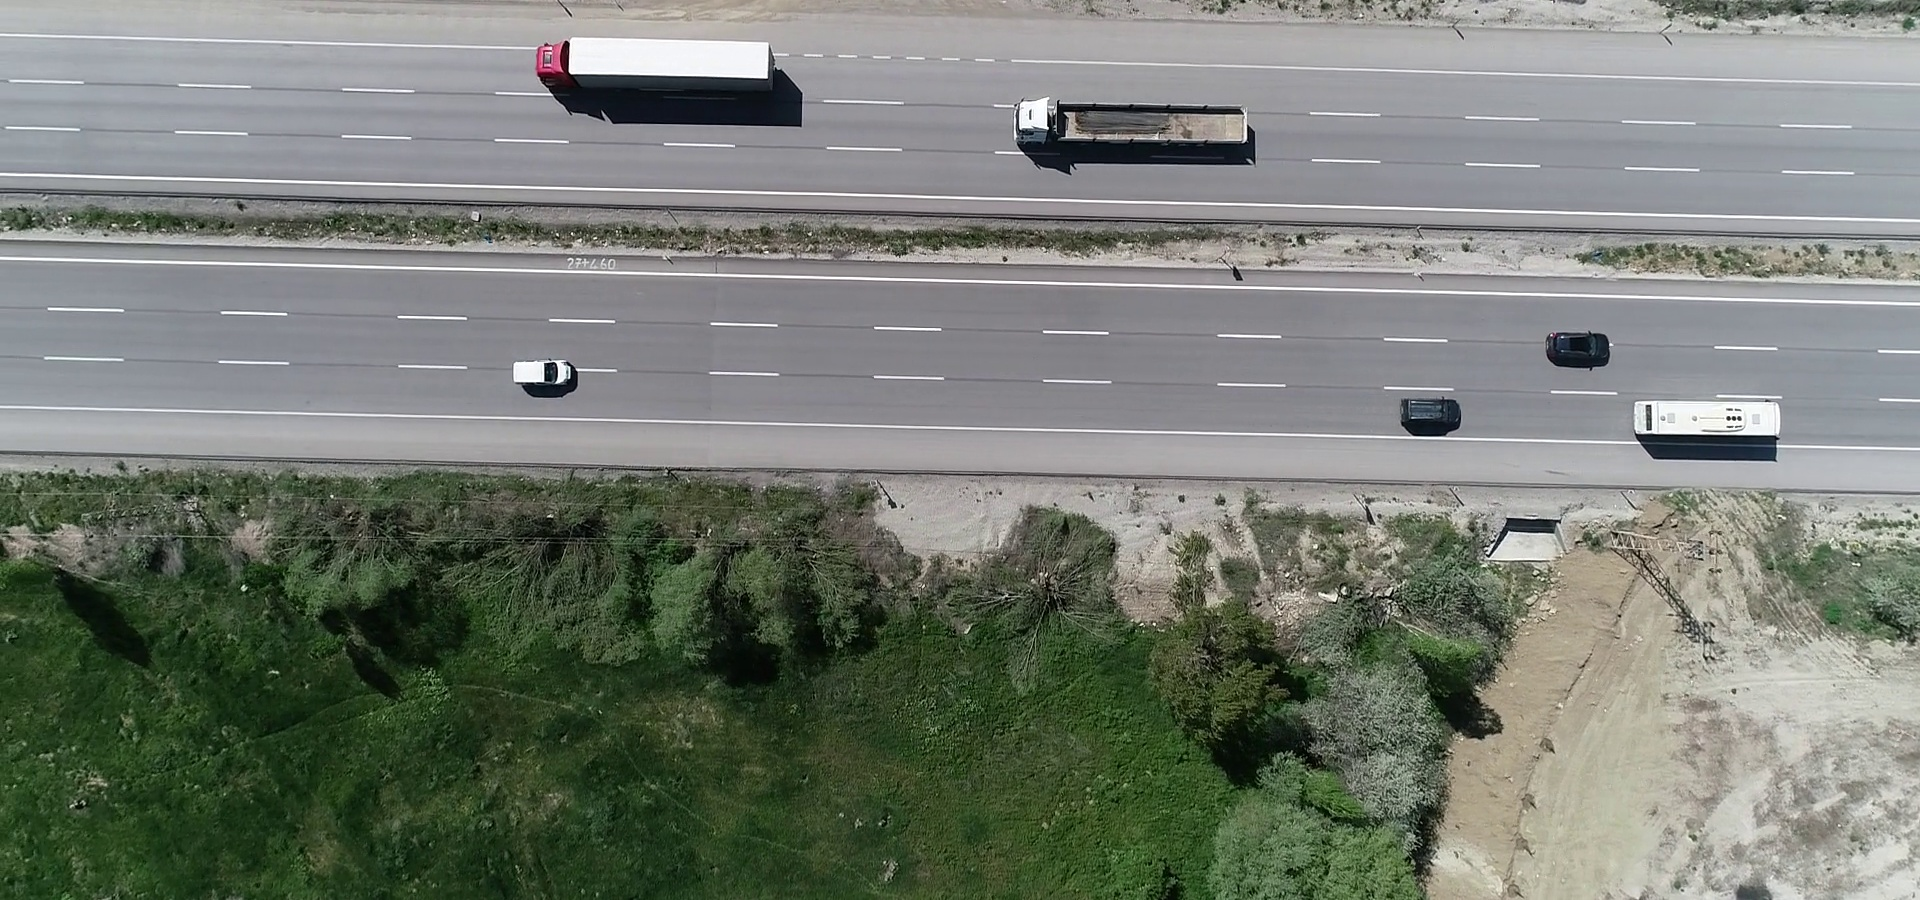arac: (525, 28, 780, 104), (1008, 92, 1255, 153), (1629, 394, 1783, 451), (1393, 387, 1466, 437), (1537, 324, 1616, 367), (504, 353, 578, 392)
